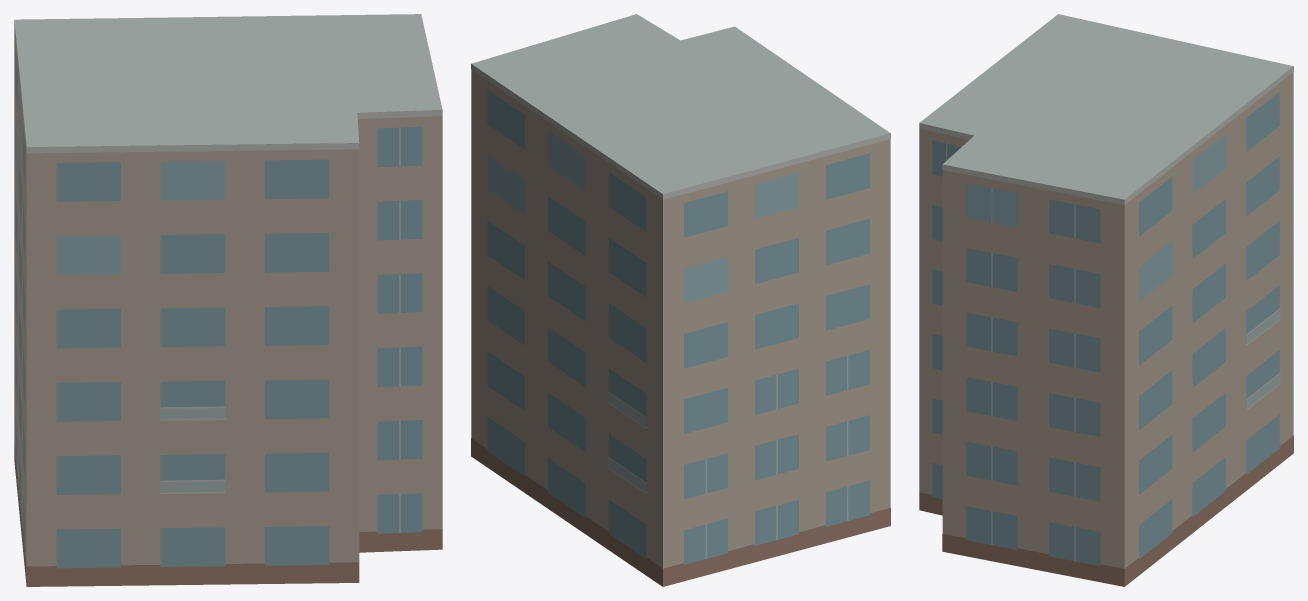
Rendered from survey-upis-32986395.glb.
3 views of the same model, side by side, from view 1: azimuth 30°, elevation 25°; view 2: azimuth 150°, elevation 25°; view 3: azimuth 270°, elevation 25° (orthographic). The views are drawn at different scales.
Parts seen in each view (by area): view 1: survey-upis-32986395.tmp; view 2: survey-upis-32986395.tmp; view 3: survey-upis-32986395.tmp.
Boxes of the visible parts, x1=… form: survey-upis-32986395.tmp: x1=14, y1=14, x2=442, y2=586; survey-upis-32986395.tmp: x1=471, y1=14, x2=890, y2=586; survey-upis-32986395.tmp: x1=919, y1=14, x2=1293, y2=586.
Size of the model in its own units: 17.49 by 17 by 14.91.
